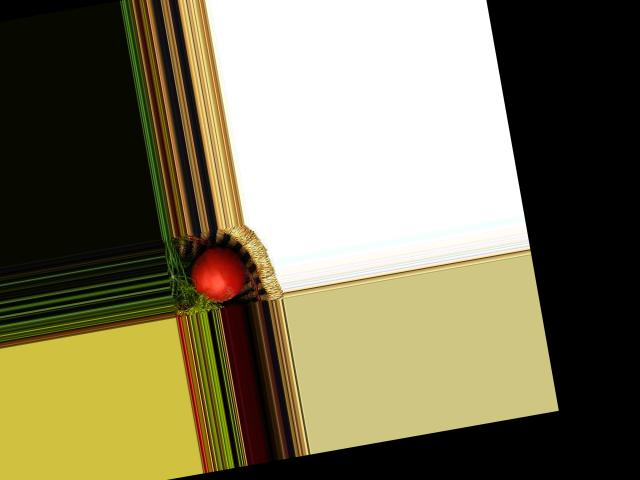tomato: (185, 243, 249, 306)
